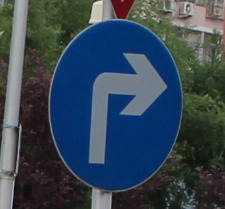right_turn: (48, 19, 184, 192)
